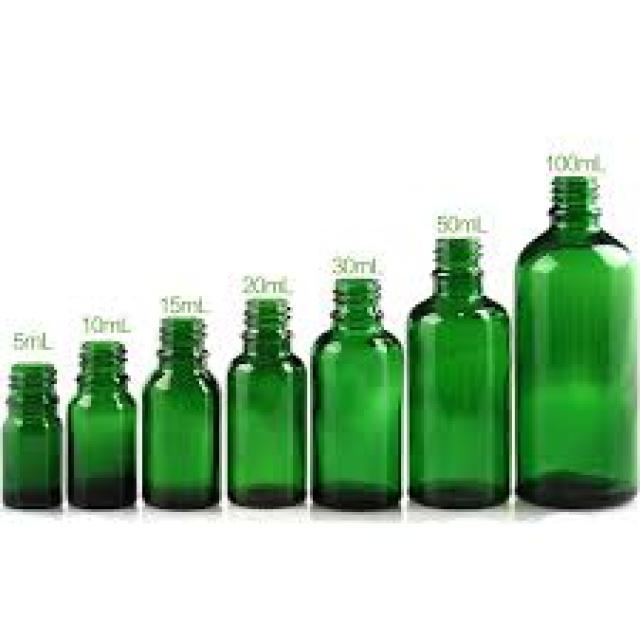glass: (512, 174, 634, 507), (404, 236, 509, 512), (307, 276, 401, 512), (228, 299, 305, 509), (142, 316, 216, 512), (65, 338, 134, 512), (0, 361, 60, 509)
